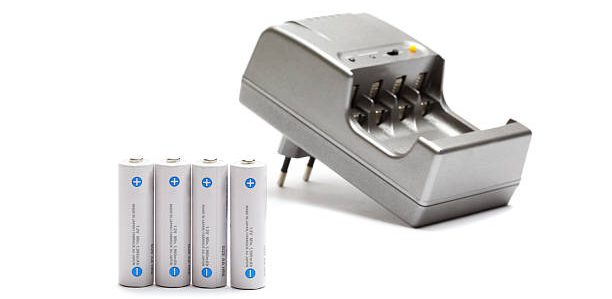Battery: (229, 156, 269, 291), (116, 154, 155, 289), (191, 156, 229, 289), (154, 156, 192, 289)
